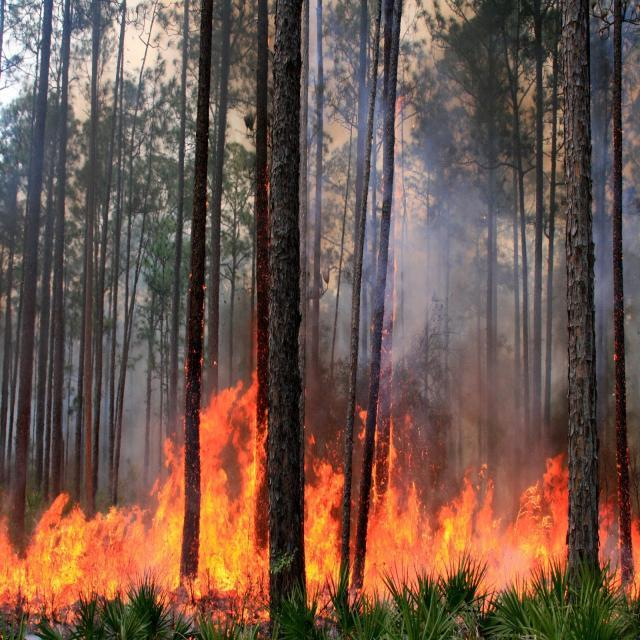Fire: (5, 393, 640, 611)
Smoke: (338, 146, 504, 338)
